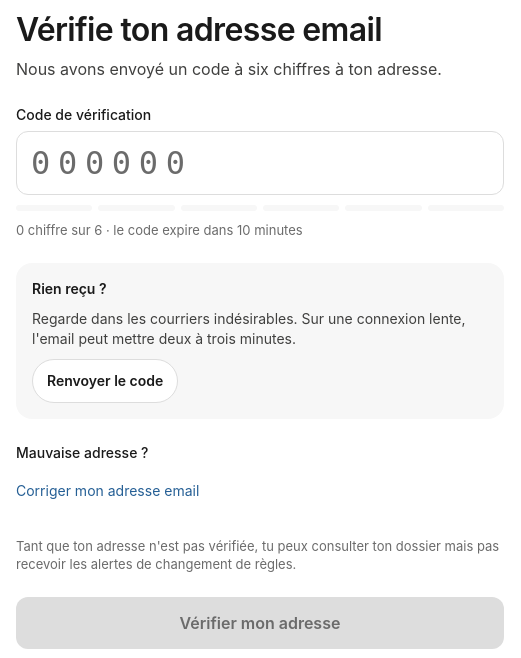
Scenario: A-03 — Vérification email › normalise la saisie et n'active la validation qu'à six chiffres
Type "12 34-5" into the field labelled "Code de vérification".
click(260, 163); type("12 34-5")  # box [16,131,504,195]
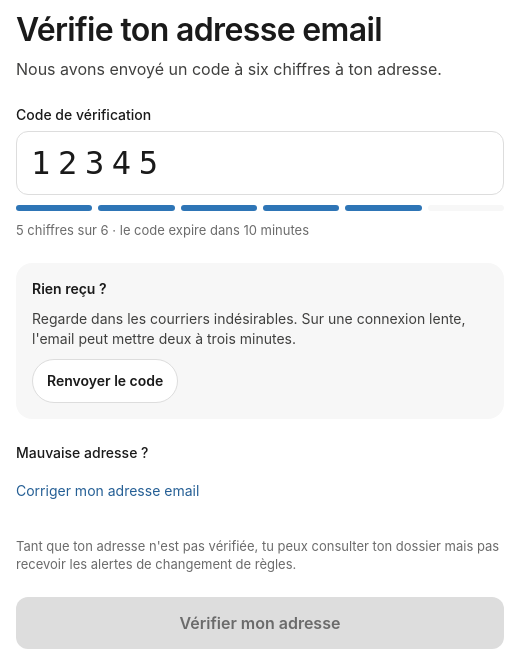
Check: the button "Vérifier mon adresse" is disabled, box [16,597,504,649]
Check: the field labelled "Code de vérification" holds "12345"
Replace the text in the field labelled "Code de vérification" with "123456" at [260, 163], box [16,131,504,195]
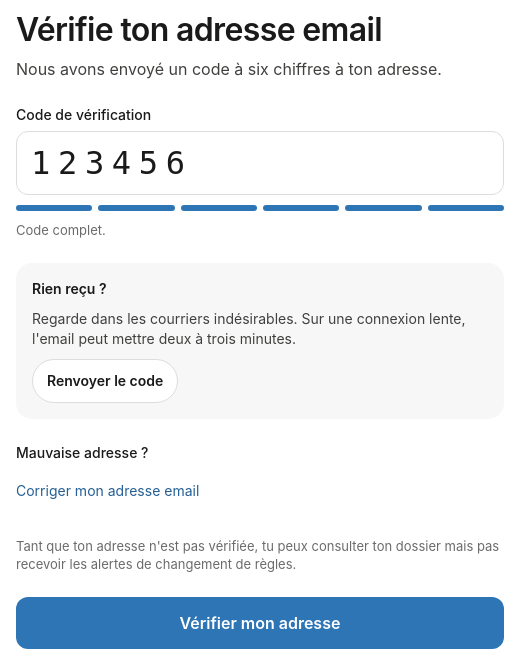
Check: the text "Code complet." is shown, box [16,222,106,238]
Check: the button "Vérifier mon adresse" is enabled, box [16,597,504,649]
